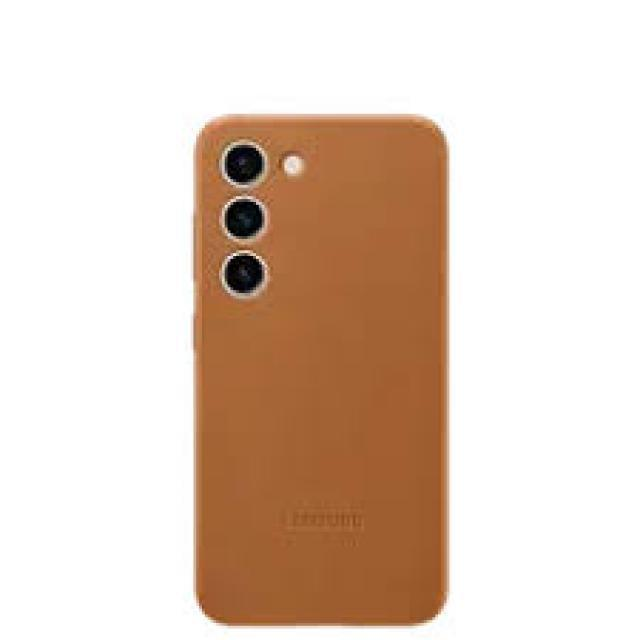phone: (194, 110, 448, 624)
